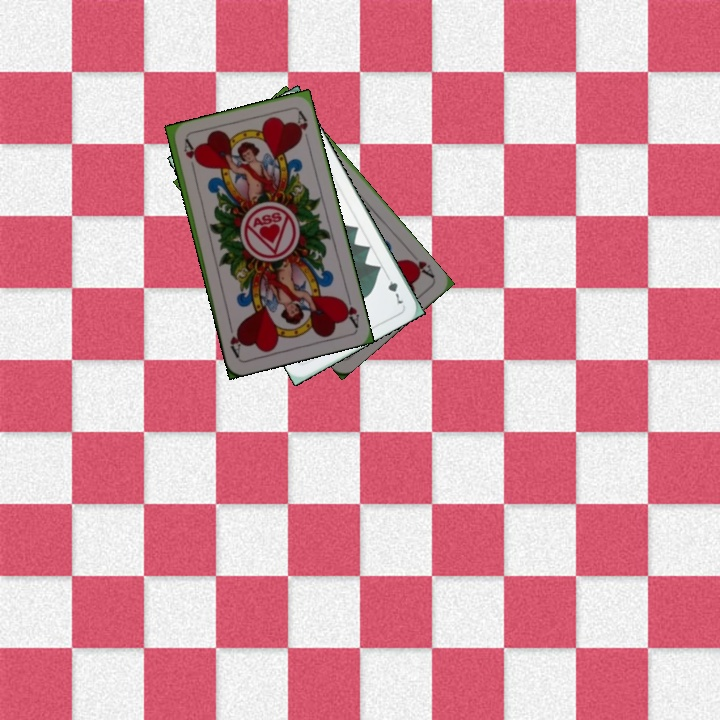G7: (381, 269, 406, 308)
HA: (403, 247, 437, 281), (338, 289, 362, 330), (180, 136, 198, 176)
